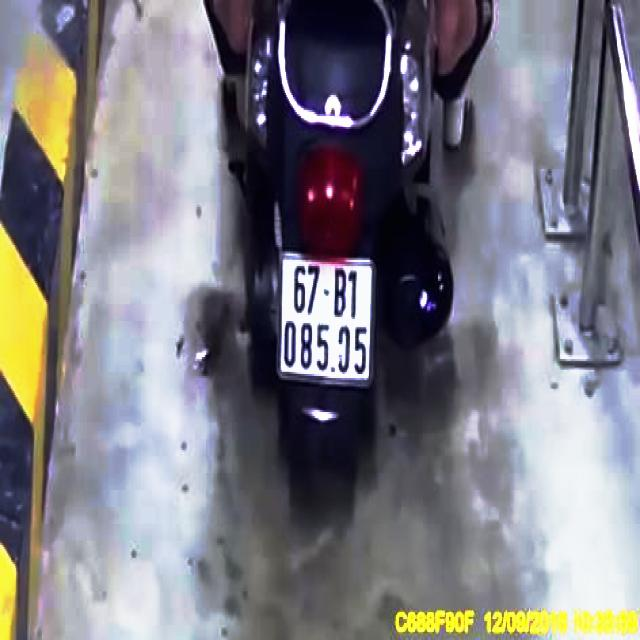license_plate: (281, 253, 375, 386)
